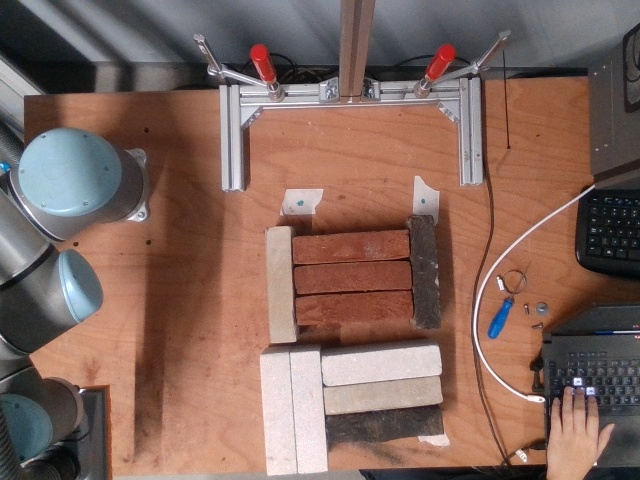brick-side: (321, 344, 441, 387), (321, 375, 441, 415), (324, 404, 444, 444), (256, 354, 296, 473), (289, 352, 328, 471), (293, 232, 408, 263), (298, 293, 413, 324), (297, 261, 410, 292), (408, 218, 439, 329), (265, 229, 294, 341), (639, 300, 639, 402), (639, 339, 639, 354)
